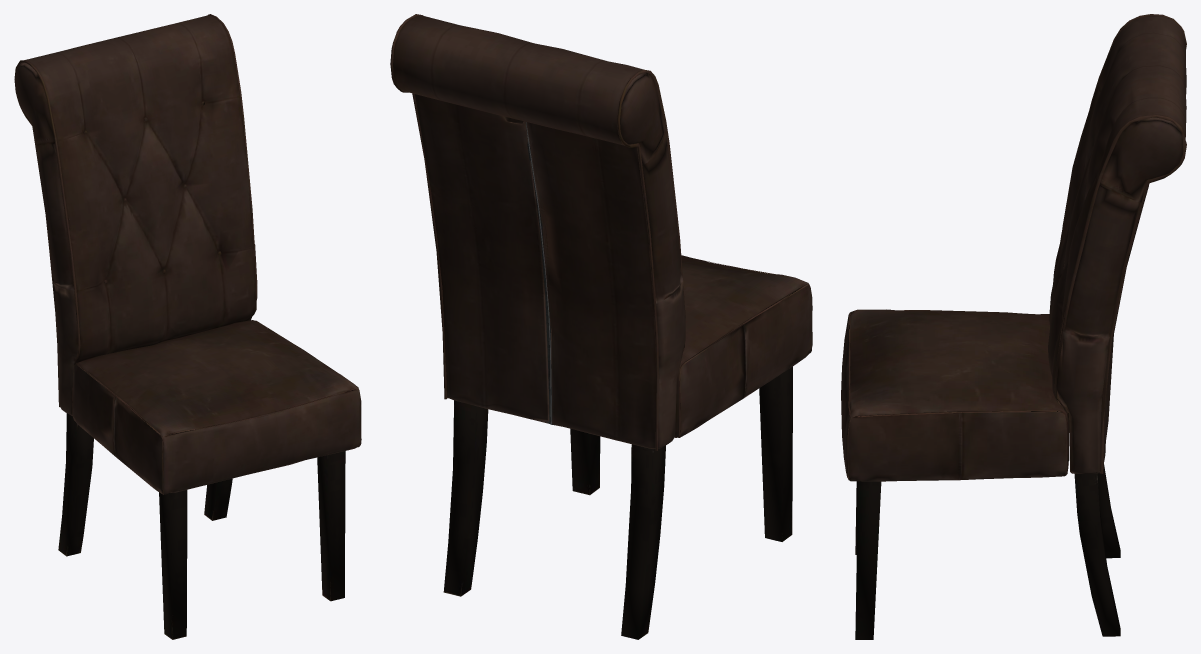
Rendered from dining_chair_02.glb.
The picture shows the model from 3 angles, left to right: view 1: azimuth 30°, elevation 25°; view 2: azimuth 150°, elevation 25°; view 3: azimuth 270°, elevation 25°; orthographic projection. The views are drawn at different scales.
Visible parts, largest first — view 1: dining_chair_02; view 2: dining_chair_02; view 3: dining_chair_02.
Boxes of the visible parts, left/top/right/bottom form: dining_chair_02: left=14, top=14, right=361, bottom=639; dining_chair_02: left=390, top=14, right=812, bottom=639; dining_chair_02: left=841, top=14, right=1186, bottom=639.
Bounding box in the file's own units: 0.4336 × 0.9727 × 0.5764.
Materials: 1 (1 with a texture image).
